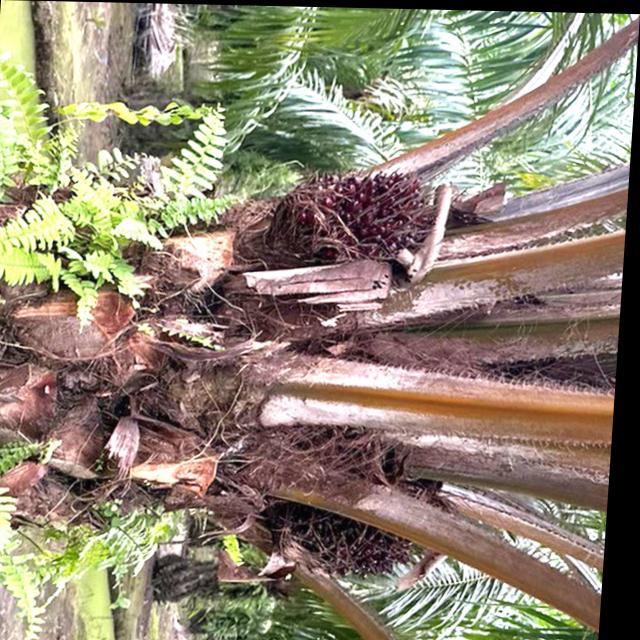ripe: (260, 153, 448, 285)
